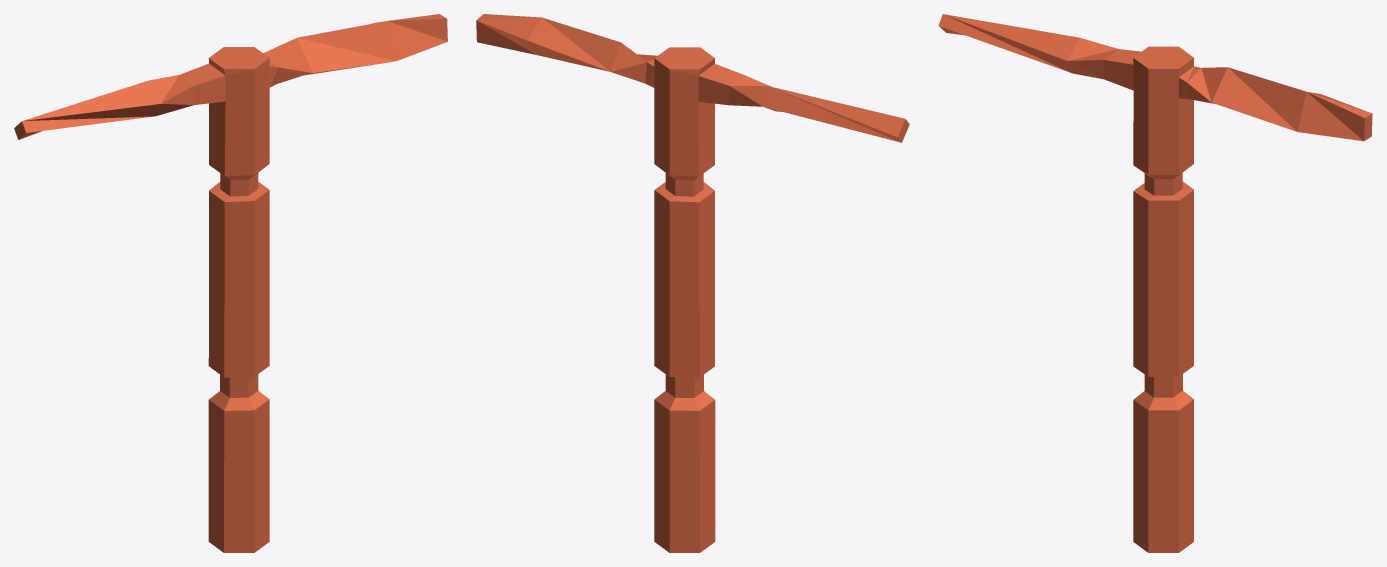
Rendered from Pole 1.fbx.
3 renders of one model, left to right at view 1: azimuth 30°, elevation 25°; view 2: azimuth 150°, elevation 25°; view 3: azimuth 330°, elevation 25°, orthographic.
Visible parts, largest first — view 1: Pole 1; view 2: Pole 1; view 3: Pole 1.
Boxes of the visible parts, x1,y1,x2,y2 form: Pole 1: (14,14,447,552); Pole 1: (476,14,909,552); Pole 1: (938,14,1372,552).
Bounding box in the file's own units: 602 × 662 × 74.87.
